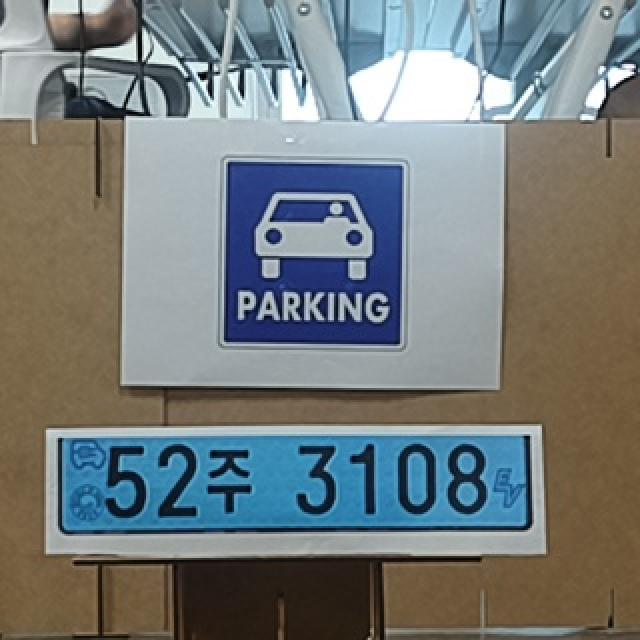electric: (59, 436, 532, 532)
